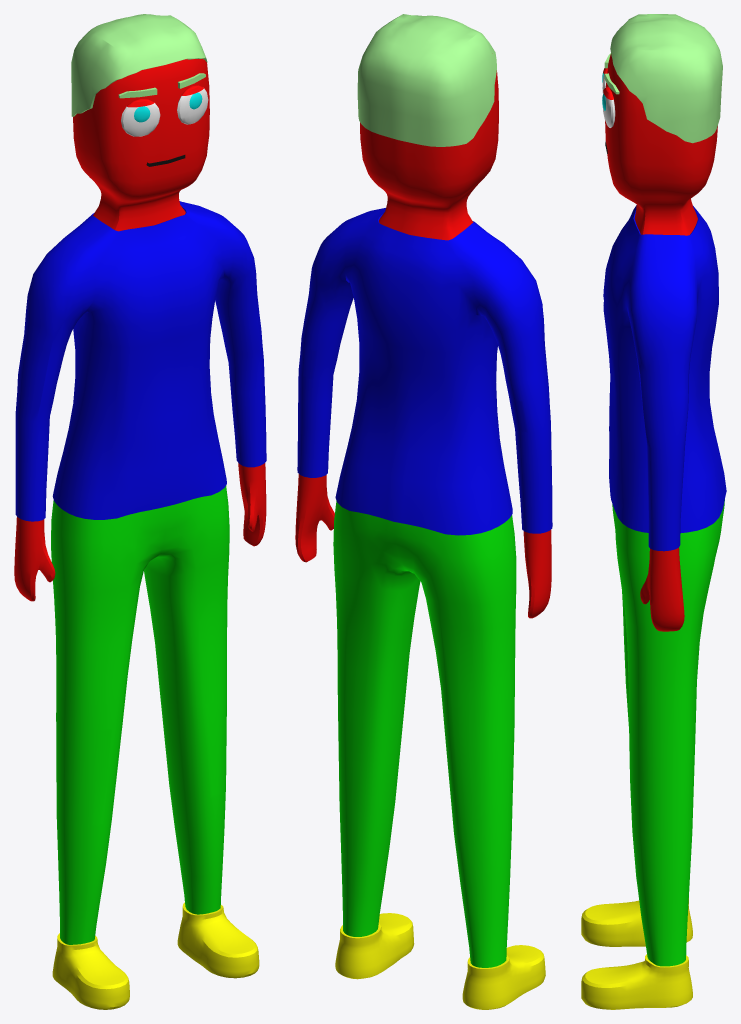
The model's file is NPCEyesbigger.fbx.
3 renders of one model, left to right at view 1: azimuth 30°, elevation 25°; view 2: azimuth 150°, elevation 25°; view 3: azimuth 270°, elevation 25°, orthographic.
Parts seen in each view (by area): view 1: Body.001, Hair.001, Eyes.001; view 2: Body.001, Hair.001; view 3: Body.001, Hair.001, Eyes.001.
Part boxes in pixels (x1,y1,x2,y2): Body.001: (14, 58, 266, 1009); Hair.001: (71, 14, 207, 116); Eyes.001: (121, 85, 208, 136); Body.001: (295, 70, 552, 1009); Hair.001: (357, 14, 496, 146); Body.001: (581, 54, 726, 1009); Hair.001: (604, 14, 722, 143); Eyes.001: (602, 68, 615, 127).
Bounding box in the file's own units: 61.49 × 31.42 × 225.
